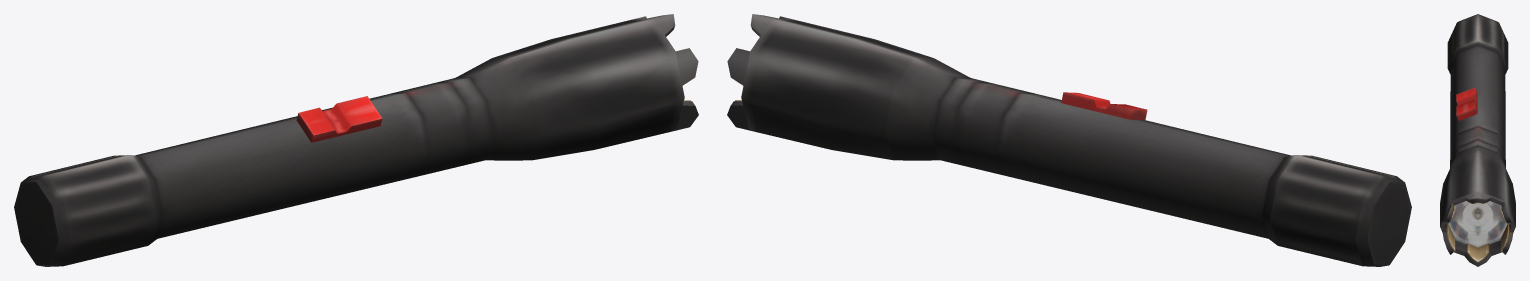
The model's file is ShaShouJia_01_dianjiqi_01.FBX.
3 renders of one model, left to right at view 1: azimuth 30°, elevation 25°; view 2: azimuth 150°, elevation 25°; view 3: azimuth 270°, elevation 25°, orthographic. The views are drawn at different scales.
Parts seen in each view (by area): view 1: ShaShouJia_01_dianjiqi_01; view 2: ShaShouJia_01_dianjiqi_01; view 3: ShaShouJia_01_dianjiqi_01.
Boxes of the visible parts, x1=… form: ShaShouJia_01_dianjiqi_01: x1=14, y1=14, x2=698, y2=266; ShaShouJia_01_dianjiqi_01: x1=727, y1=14, x2=1411, y2=266; ShaShouJia_01_dianjiqi_01: x1=1440, y1=14, x2=1515, y2=266.
Bounding box in the file's own units: 256 × 42.82 × 42.75.
